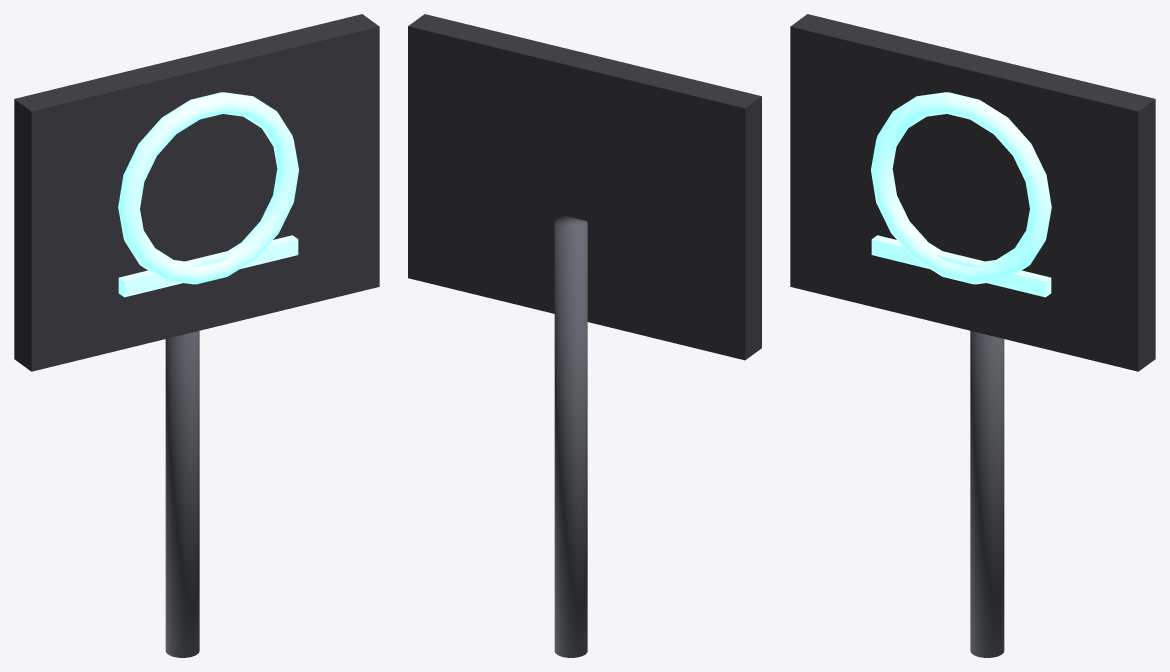
File: prop_kanban_neon_round_c.glb
3 views of the same model, side by side, from view 1: azimuth 30°, elevation 25°; view 2: azimuth 150°, elevation 25°; view 3: azimuth 330°, elevation 25° (orthographic). The views are drawn at different scales.
Visible parts, largest first — view 1: kanban_neon_round_c; view 2: kanban_neon_round_c; view 3: kanban_neon_round_c.
Part boxes in pixels (<box>): kanban_neon_round_c: <box>14,14,379,657</box>; kanban_neon_round_c: <box>408,14,761,657</box>; kanban_neon_round_c: <box>790,14,1155,657</box>.
Size of the model in its own units: 1.4 by 2.3 by 0.28.
